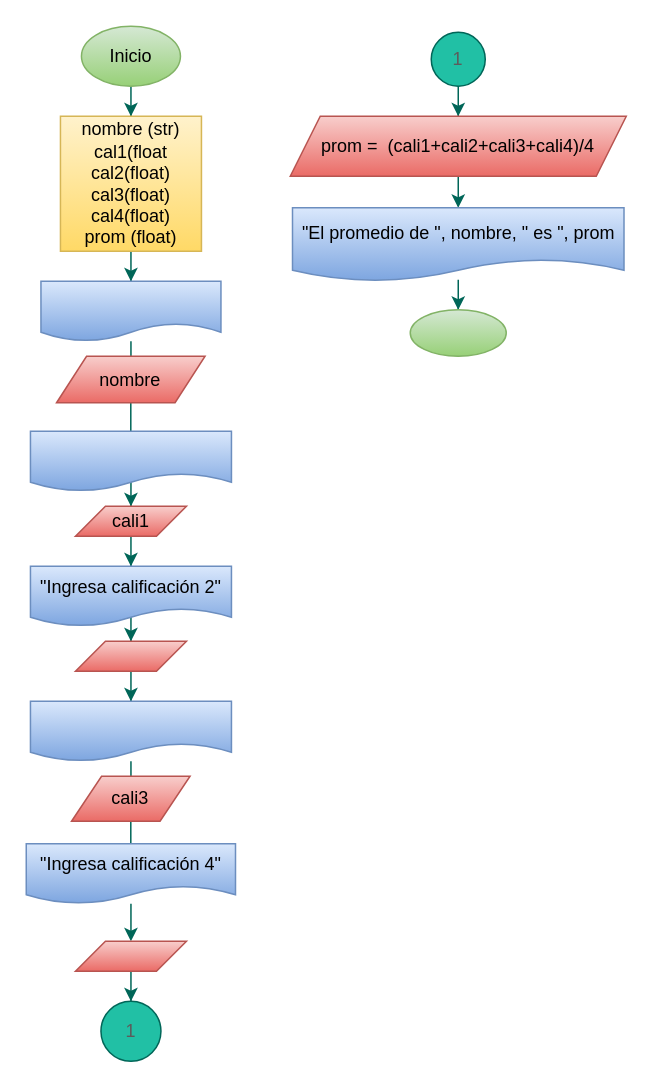
Image size: 653x1088. Some labels were removed from this diagram. Each missing label, with the box of its shape:
"Ingresa calificación 1": (29, 430, 231, 491)
"Ingresa calificación 3": (29, 700, 231, 761)
"Ingresa tu nombre": (39, 280, 221, 341)
cali2: (74, 640, 186, 671)
cali4: (74, 940, 186, 971)
fin: (409, 308, 506, 356)
